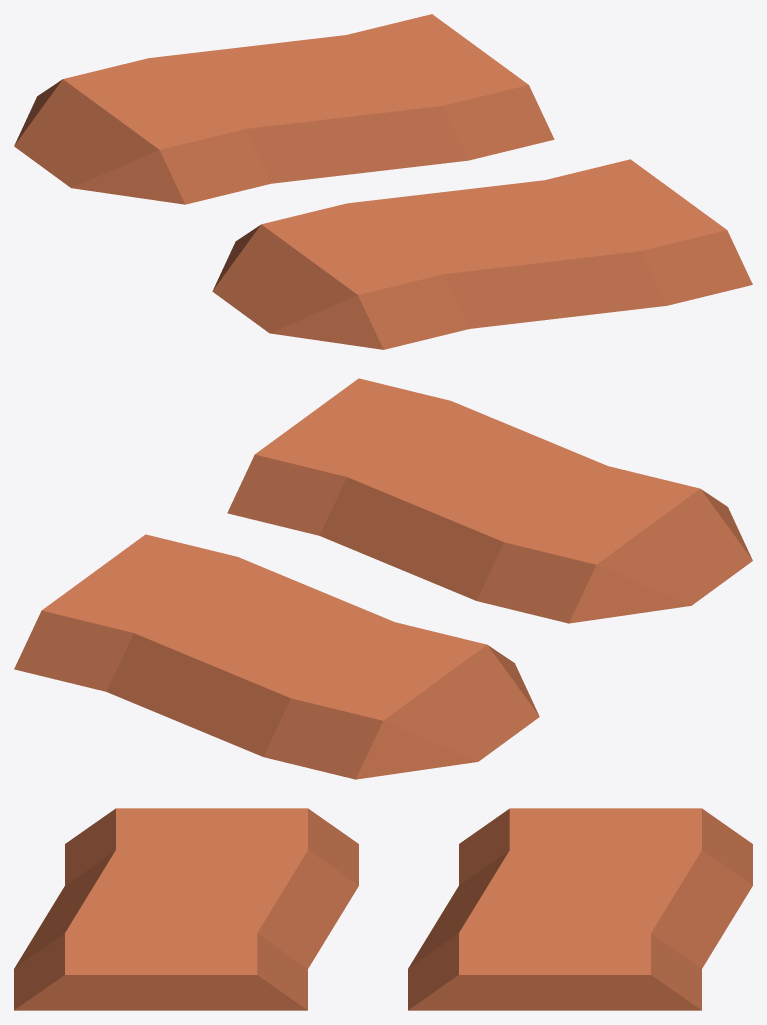
Rendered from crops_dirtDoubleRowEnd.dae.
3 views of the same model, one above another, from view 1: azimuth 30°, elevation 25°; view 2: azimuth 150°, elevation 25°; view 3: azimuth 270°, elevation 25° (orthographic). The views are drawn at different scales.
Parts seen in each view (by area): view 1: crops_dirtDoubleRowEnd; view 2: crops_dirtDoubleRowEnd; view 3: crops_dirtDoubleRowEnd.
Boxes of the visible parts, <box> form: crops_dirtDoubleRowEnd: <box>14,14,752,349</box>; crops_dirtDoubleRowEnd: <box>14,378,752,779</box>; crops_dirtDoubleRowEnd: <box>14,808,752,1010</box>.
Size of the model in its own units: 0.6 by 0.05 by 0.938.
